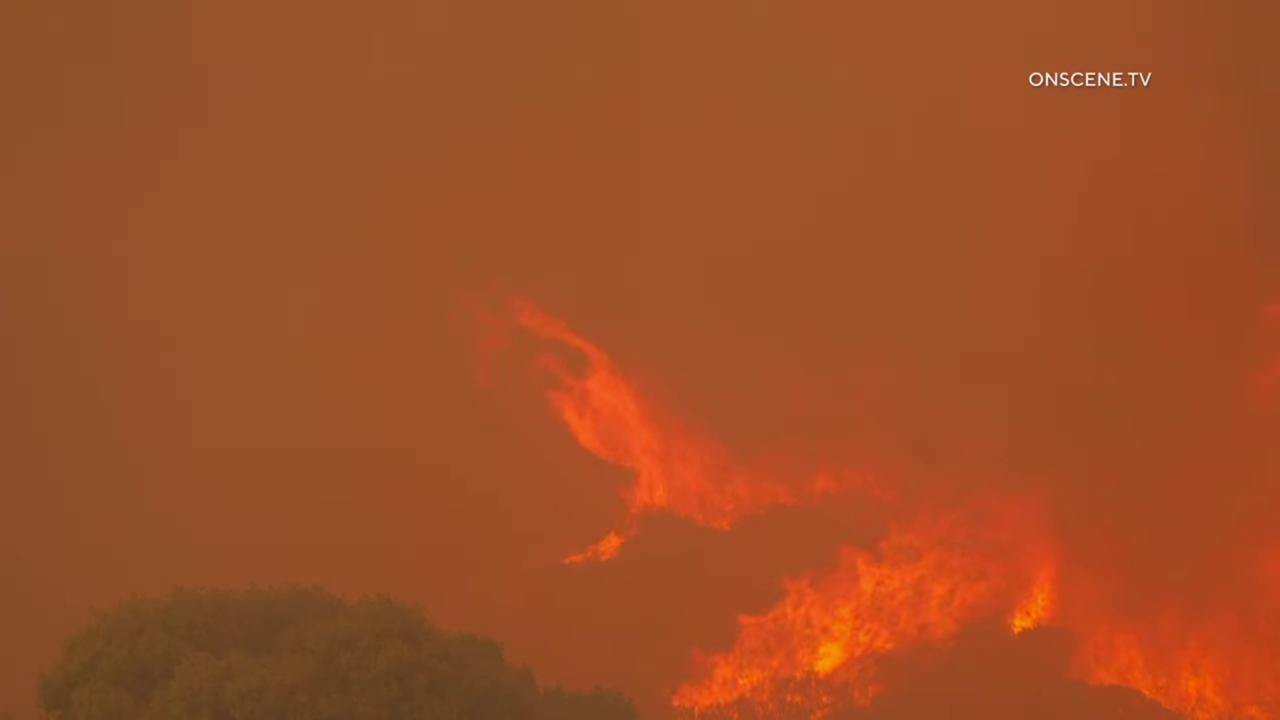fire: (475, 292, 1280, 720)
smoke: (0, 0, 1280, 720)
